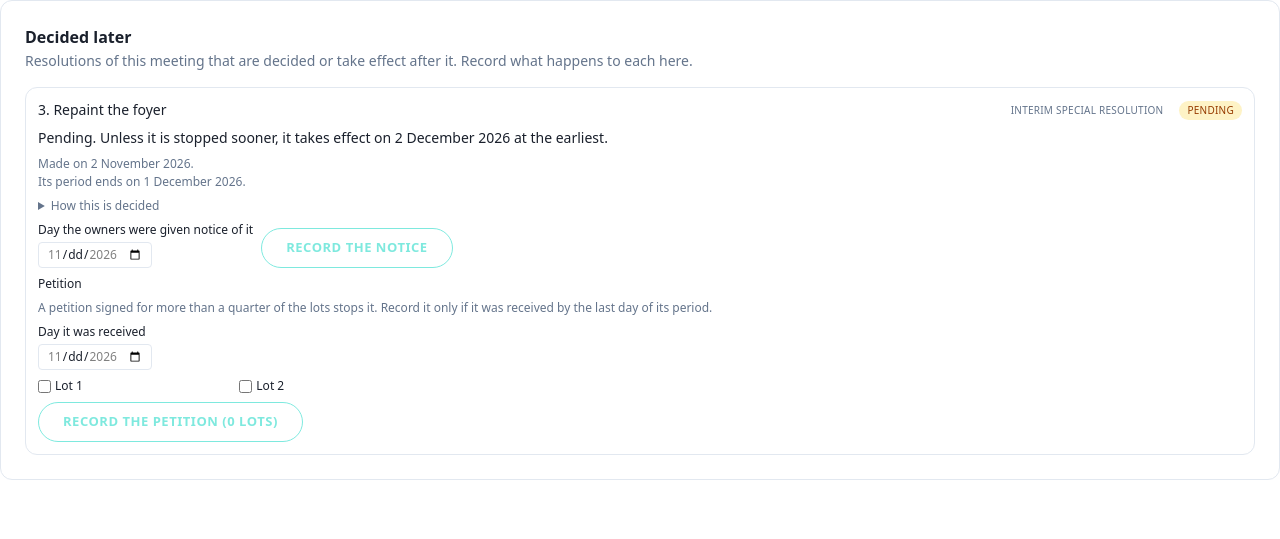
it: the Decided later panel › shows a refusal and a notice from the server
Type "2026-11-09" into the date field labelled "Day the owners were given notice of it" at (95, 255), box 38,242 -> 152,268
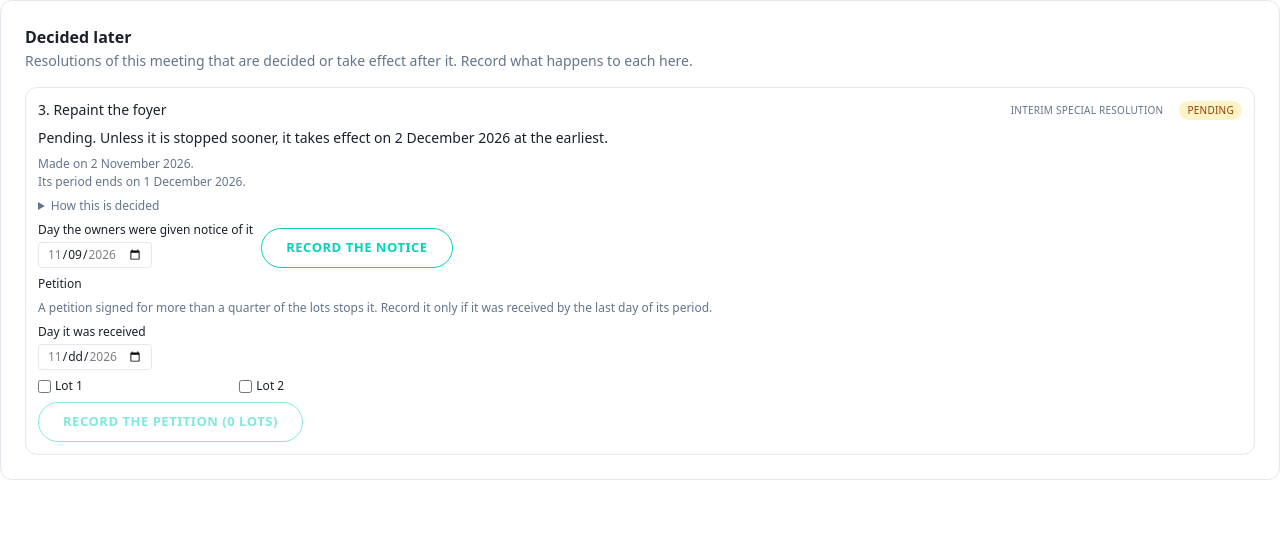
Click the button "Record the notice" at (357, 248), box 261,228 -> 453,268
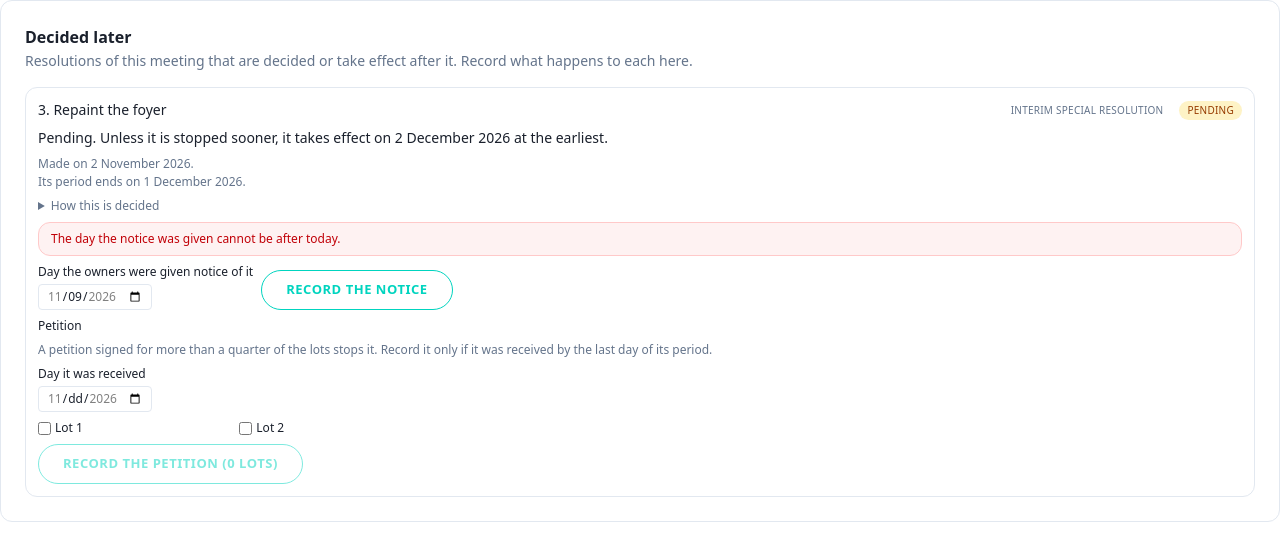
Expected: the message reads "The day the notice was given cannot be after today.", 51,230 -> 340,247
